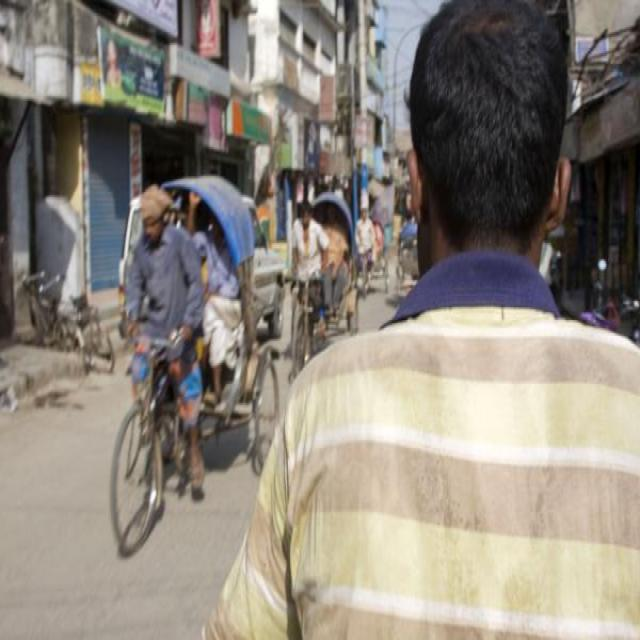Rickshaw: (93, 160, 293, 569), (256, 173, 384, 414)
